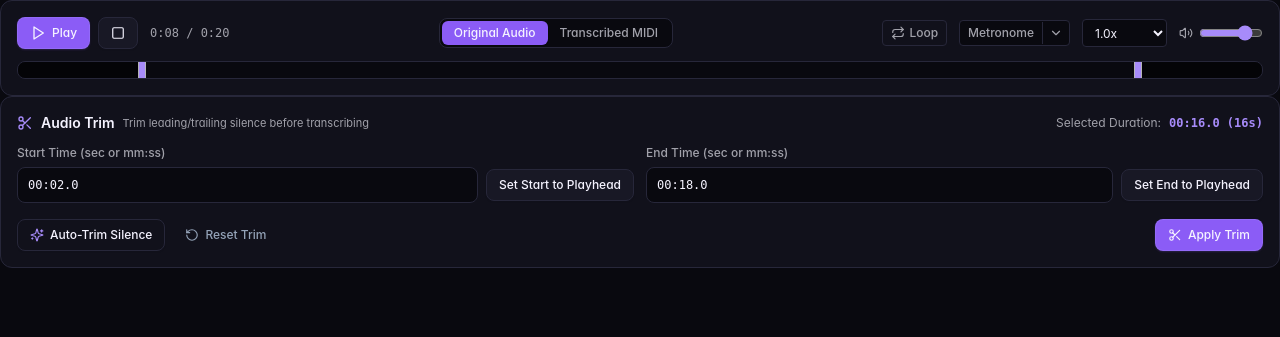
AudioTrimPanel, WaveformPlayer Overlay & Studio Workflow › renders waveform dimmed regions, draggable trim handles, playhead buttons, Auto-Trim, Reset, and error recovery
This screenshot has width=1280, height=337.
Later steps or results of the test are not shown.
Expected: the element with test id "trim-dim-left" is shown, [18, 62, 142, 78]
Expected: the element with test id "trim-dim-right" is shown, [1138, 62, 1262, 78]
Press ArrowRight in the slider named "Trim start handle", box [139, 54, 145, 86]
Expected: the text with test id "trim-selected-duration" shows "16s", [1234, 116, 1256, 130]
Click the button "Set Start to Playhead": [560, 185] box [486, 169, 634, 201]
Click the button "Auto-Trim Silence": [91, 235] box [17, 219, 165, 251]
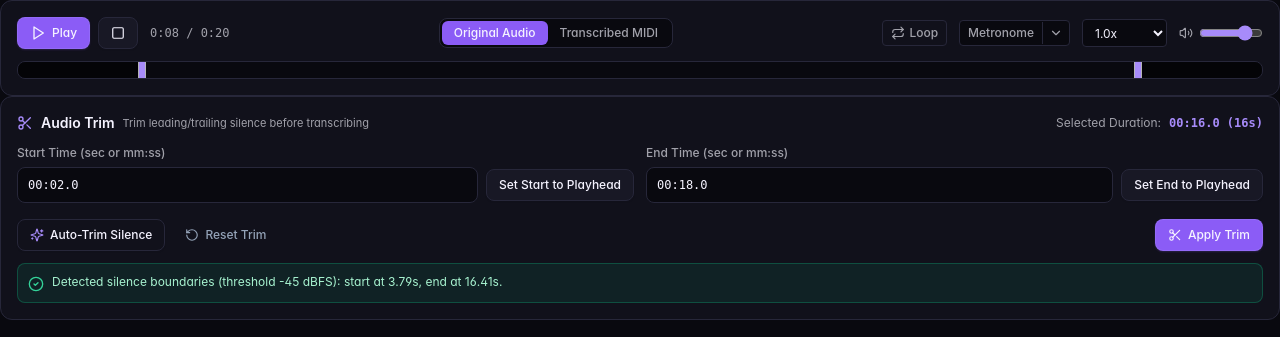
Click the button "Reset Trim": [226, 235] box [173, 219, 278, 251]
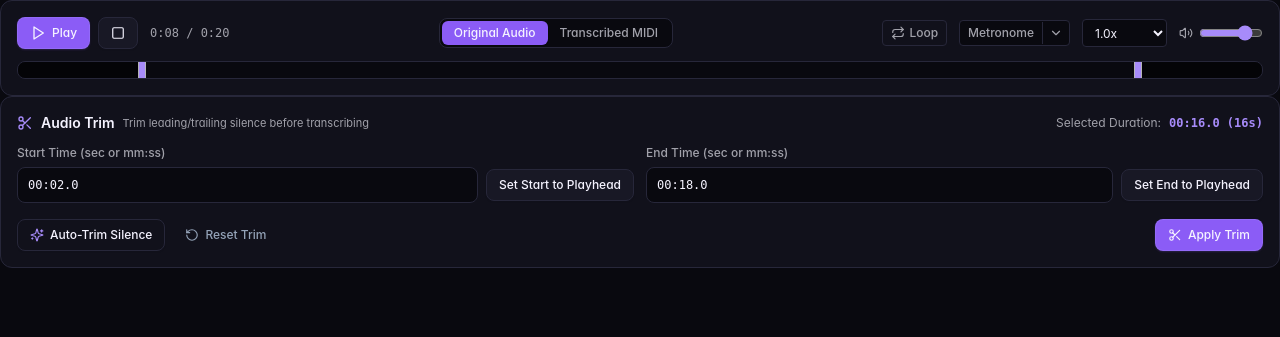
Click the button "Apply Trim": [1209, 235] box [1155, 219, 1263, 251]
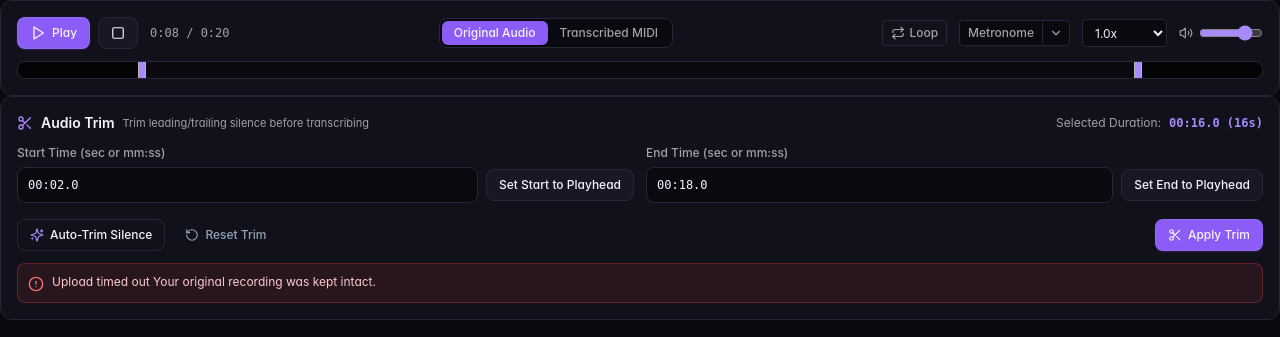
Now the message shows "original recording was kept intact", box [52, 274, 376, 289]
